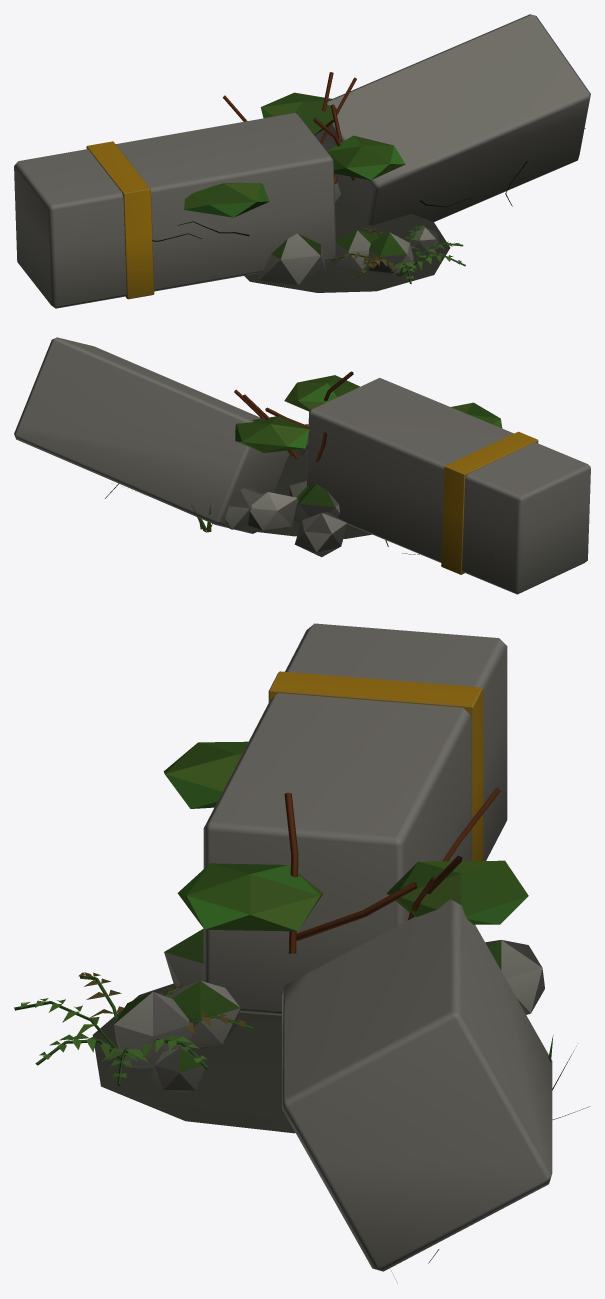
File: collapsed_pillar.glb
3 views of the same model, one above another, from view 1: azimuth 30°, elevation 25°; view 2: azimuth 150°, elevation 25°; view 3: azimuth 270°, elevation 25° (orthographic). The views are drawn at different scales.
Parts seen in each view (by area): view 1: Mesh; view 2: Mesh; view 3: Mesh.
Part boxes in pixels (x1,y1,x2,y2): Mesh: (14, 14, 590, 308); Mesh: (14, 337, 590, 594); Mesh: (14, 623, 590, 1283).
Size of the model in its own units: 5.67 by 1.67 by 2.81.
